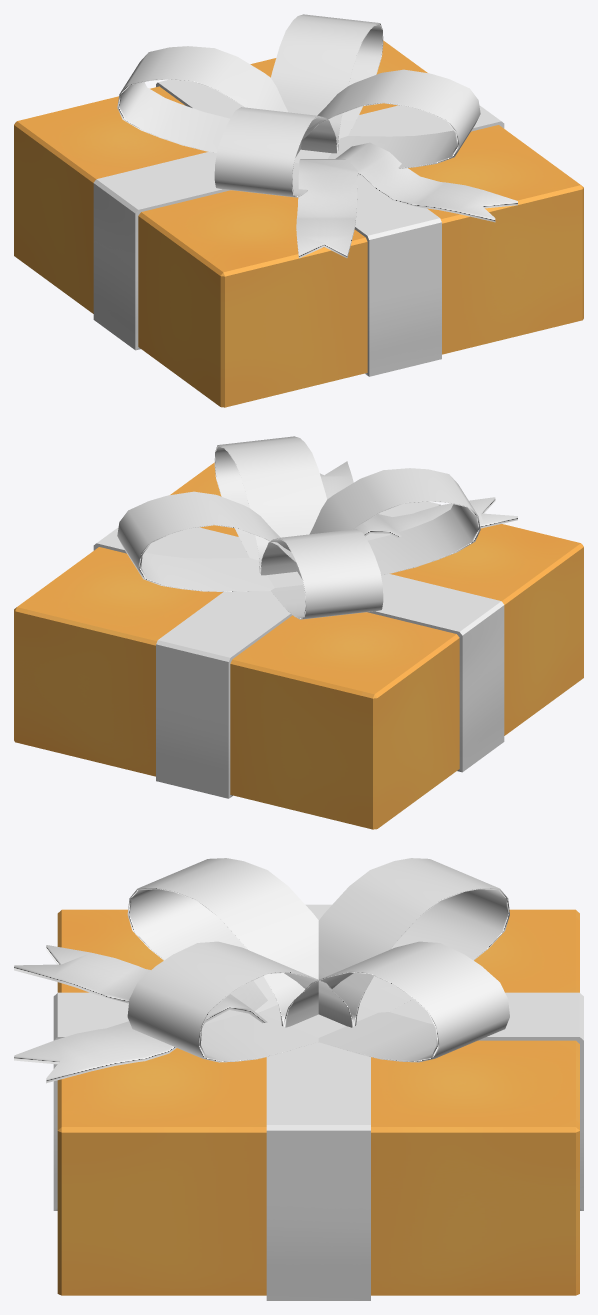
Rendered from itembox_top.fbx.
3 views of the same model, one above another, from view 1: azimuth 30°, elevation 25°; view 2: azimuth 150°, elevation 25°; view 3: azimuth 270°, elevation 25° (orthographic). The views are drawn at different scales.
Parts seen in each view (by area): view 1: polySurface1, polySurface2, polySurface3, pCube4; view 2: polySurface1, polySurface3, polySurface2, pCube4; view 3: polySurface1, polySurface2, polySurface3, pCube4.
Part boxes in pixels (bbox=[...]): polySurface1: bbox=[14, 40, 583, 407]; polySurface2: bbox=[117, 46, 480, 168]; polySurface3: bbox=[214, 14, 383, 197]; pCube4: bbox=[296, 142, 517, 258]; polySurface1: bbox=[14, 462, 583, 829]; polySurface3: bbox=[117, 468, 480, 591]; polySurface2: bbox=[214, 436, 383, 619]; pCube4: bbox=[320, 461, 517, 537]; polySurface1: bbox=[53, 904, 583, 1300]; polySurface2: bbox=[127, 858, 509, 1062]; polySurface3: bbox=[127, 858, 509, 1062]; pCube4: bbox=[14, 945, 267, 1083].
Size of the model in its own units: 53.61 by 29.83 by 57.61.
1 material, 1 textured.
